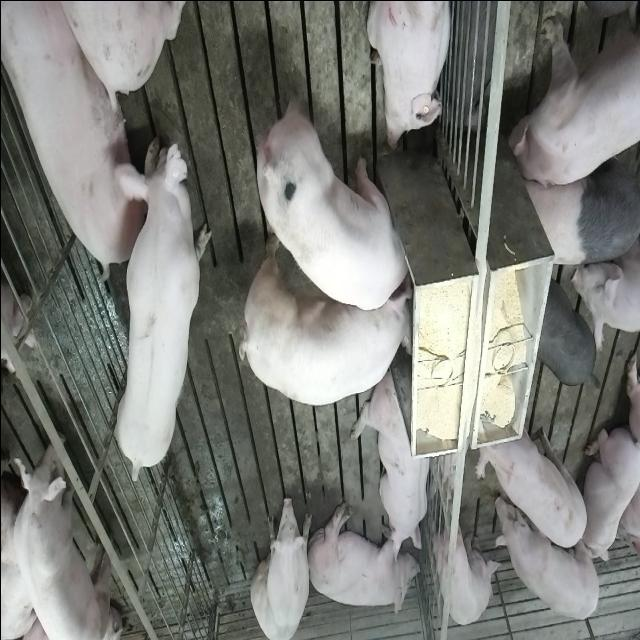Feeding: (257, 84, 418, 312), (243, 276, 421, 408)
Lateral_lying: (306, 500, 420, 618)
Sitting: (250, 492, 312, 640)
Standing: (110, 130, 210, 487), (0, 418, 115, 640), (506, 0, 638, 190), (516, 121, 638, 268), (475, 412, 588, 551), (494, 488, 602, 617), (435, 510, 501, 627), (533, 278, 596, 385)
Sternal_lying: (352, 366, 432, 560), (368, 0, 455, 149), (580, 423, 638, 568)
